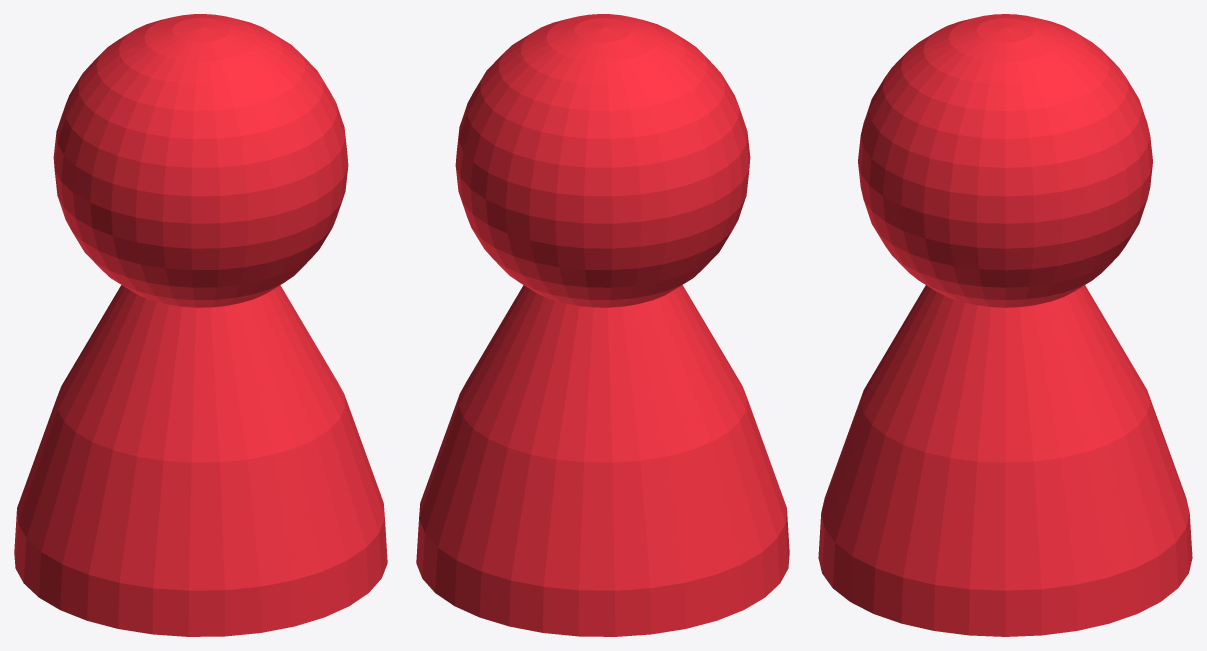
The model's file is Quoridor_red_Pawn.fbx.
3 views of the same model, side by side, from view 1: azimuth 30°, elevation 25°; view 2: azimuth 150°, elevation 25°; view 3: azimuth 270°, elevation 25° (orthographic).
Visible parts, largest first — view 1: Red_Pawn; view 2: Red_Pawn; view 3: Red_Pawn.
Part boxes in pixels (x1=…): Red_Pawn: x1=14, y1=14, x2=387, y2=636; Red_Pawn: x1=416, y1=14, x2=789, y2=636; Red_Pawn: x1=818, y1=14, x2=1192, y2=636.
Size of the model in its own units: 100 by 156 by 100.
